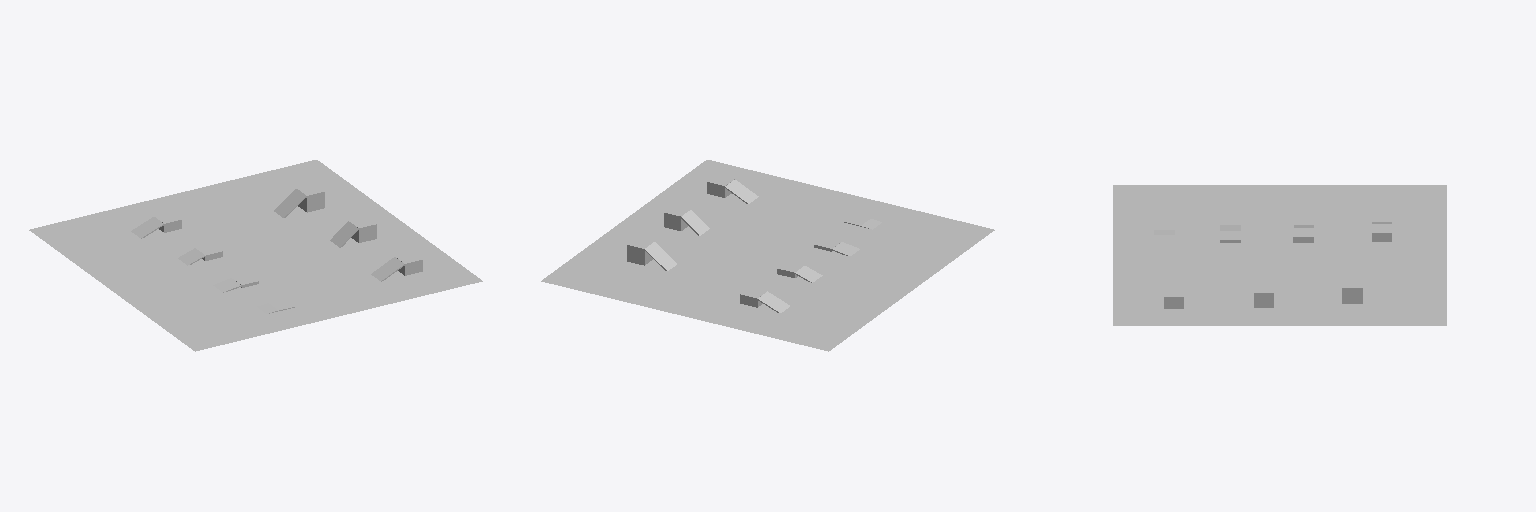
File: ramp_heights.obj
3 views of the same model, side by side, from view 1: azimuth 30°, elevation 25°; view 2: azimuth 150°, elevation 25°; view 3: azimuth 270°, elevation 25° (orthographic).
Parts seen in each view (by area): view 1: Plane, Cube.012; view 2: Plane, Cube.012; view 3: Plane, Cube.012.
Boxes of the visible parts, x1,y1,x2,y2 form: Plane: [29, 160, 482, 351]; Cube.012: [297, 184, 324, 212]; Plane: [541, 160, 994, 351]; Cube.012: [627, 237, 654, 265]; Plane: [1113, 185, 1446, 325]; Cube.012: [1342, 279, 1362, 303].
Size of the model in its own units: 91.62 by 10.48 by 91.62.